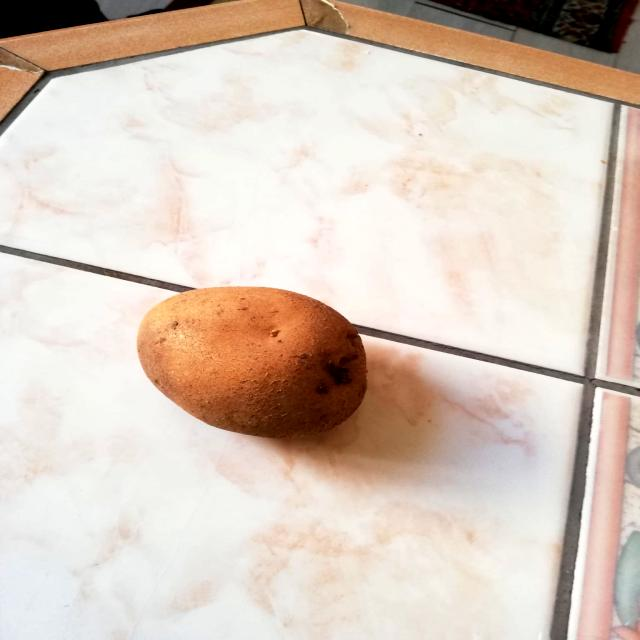potato: (129, 273, 382, 447)
